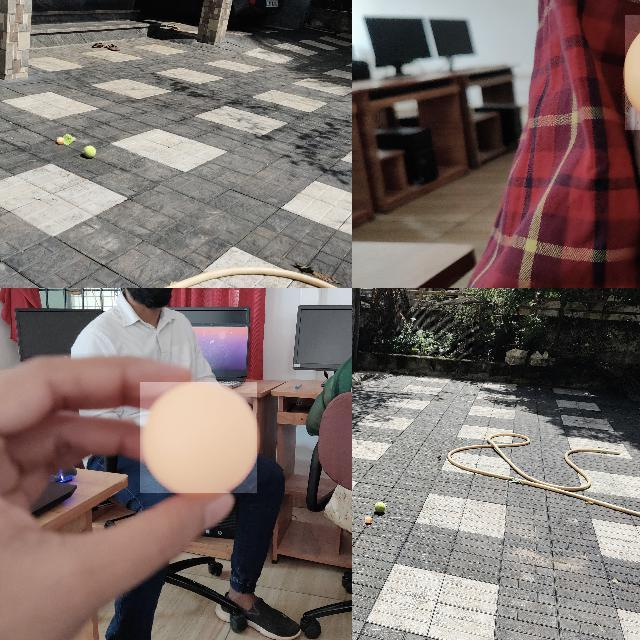ping-pong-ball: (140, 382, 258, 494), (56, 137, 64, 143), (365, 516, 371, 524)
